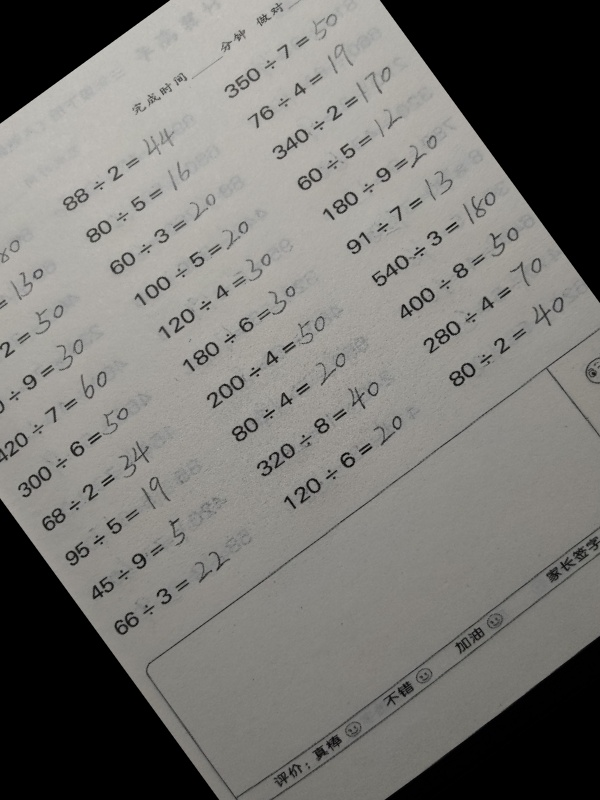equation: (255, 379, 382, 474), (372, 190, 499, 285), (422, 255, 547, 349), (396, 225, 521, 318), (206, 315, 329, 406), (284, 416, 406, 507), (271, 65, 393, 156), (448, 296, 568, 386), (231, 352, 349, 440), (0, 369, 114, 460), (182, 283, 299, 371), (223, 7, 340, 95), (322, 134, 439, 221), (157, 252, 274, 339), (36, 440, 152, 527), (15, 406, 131, 493), (134, 220, 251, 306), (114, 549, 229, 635), (64, 125, 177, 211), (85, 157, 197, 242), (248, 44, 359, 128), (345, 171, 454, 253), (61, 479, 169, 561), (109, 194, 217, 274), (296, 111, 403, 190), (0, 336, 90, 427), (87, 521, 189, 599), (0, 305, 68, 394), (0, 267, 44, 358), (0, 237, 19, 326)
